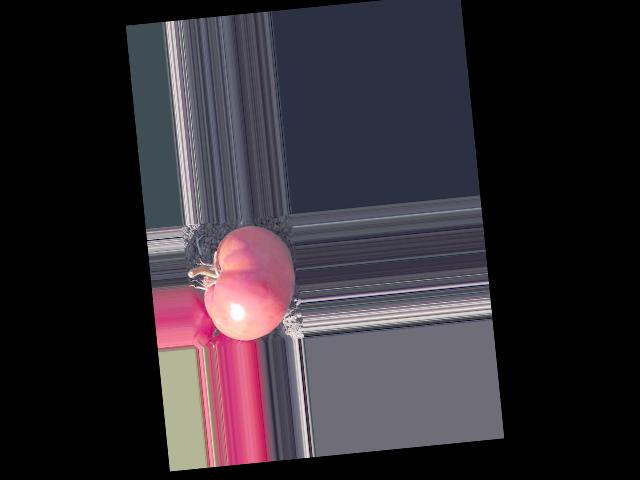tomato: (198, 221, 300, 344)
